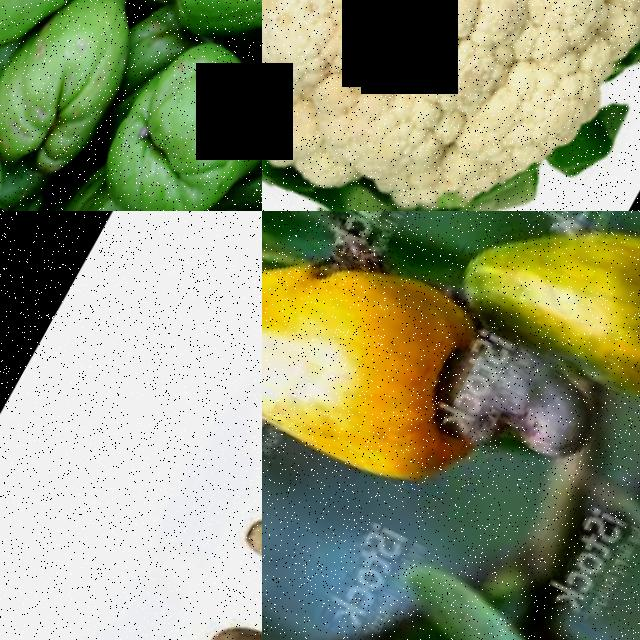cashew: (424, 327, 609, 494), (210, 473, 262, 612), (159, 575, 262, 640)
cauliflower: (262, 0, 640, 211)
chayote: (78, 18, 262, 211), (0, 0, 163, 182), (0, 0, 160, 107), (136, 0, 262, 110)
